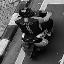motor: (15, 7, 56, 57)
